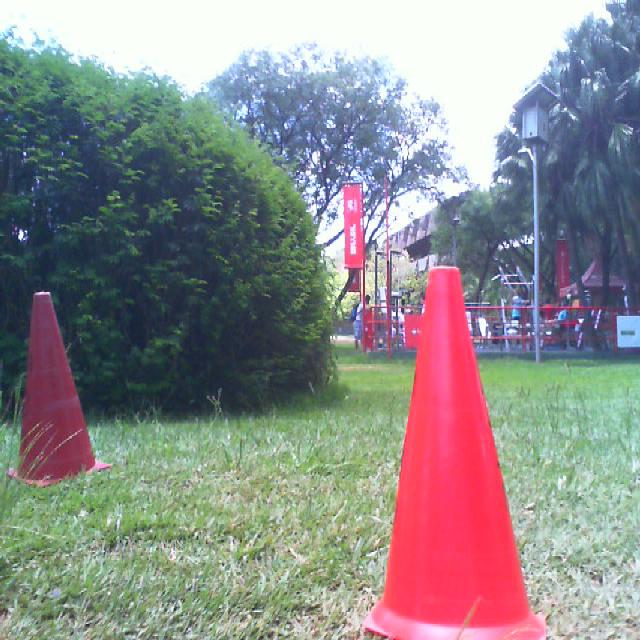cone: (361, 265, 548, 640), (7, 295, 114, 485)
